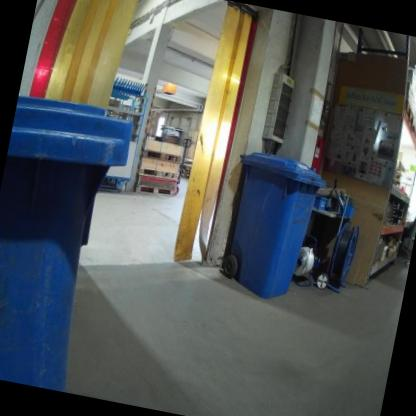pallet: (134, 182, 174, 200), (141, 148, 182, 165), (137, 166, 179, 182), (401, 102, 416, 125), (178, 172, 190, 179), (179, 168, 191, 174)
pallet_truck: (168, 134, 197, 202)
